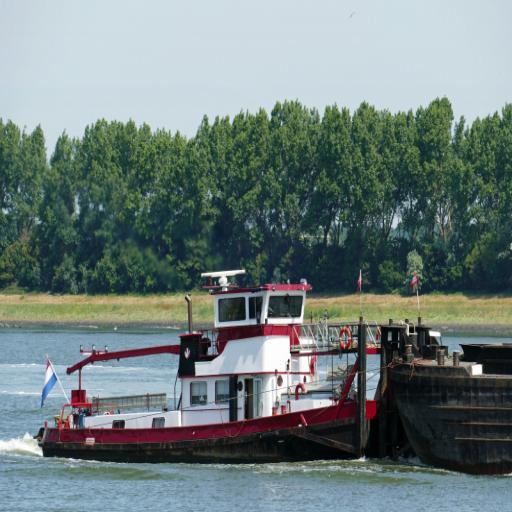tugboat: (34, 266, 445, 475)
